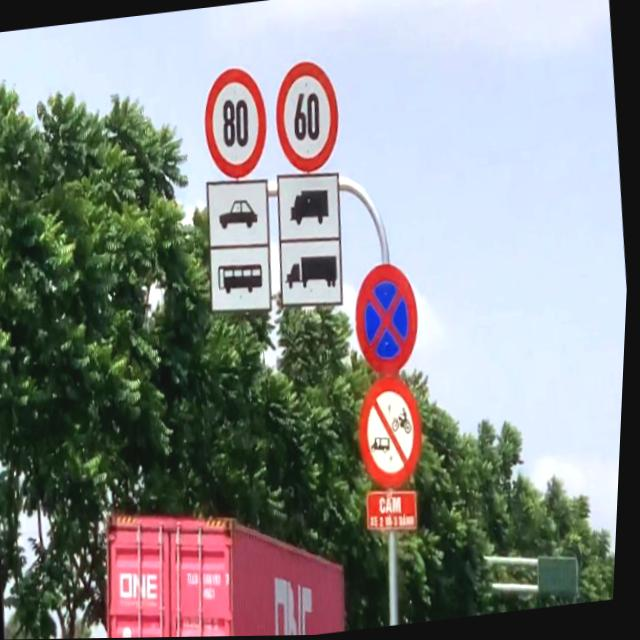Cam dung xe va do xe: (349, 254, 431, 380)
Toc do toi da cho phep: (267, 55, 349, 180), (195, 62, 277, 184)
